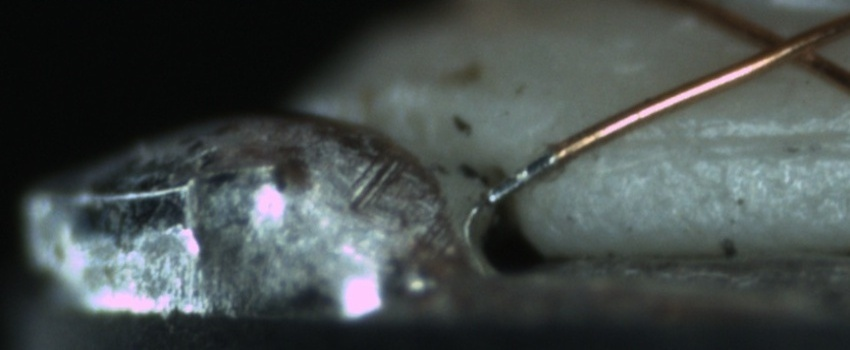CL: (728, 14, 835, 78)
DL: (616, 108, 842, 179)
TS: (488, 150, 556, 203)
TTCW: (488, 139, 570, 204)
